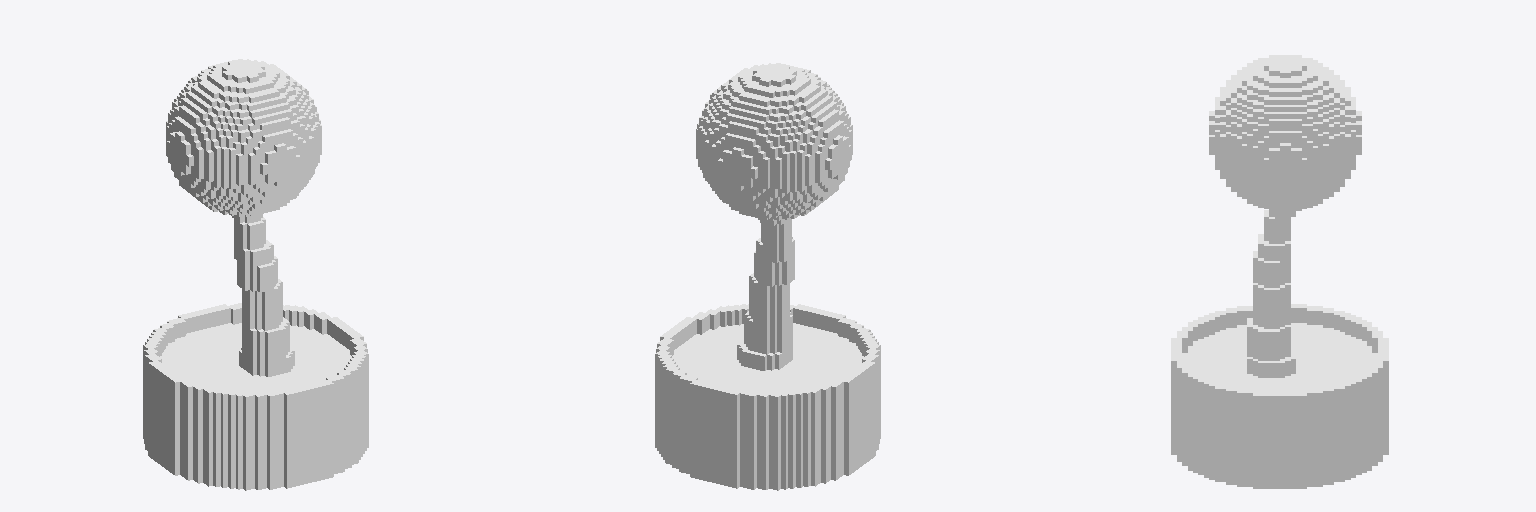
File: large-sphere-plant.obj
The picture shows the model from 3 angles: view 1: azimuth 30°, elevation 25°; view 2: azimuth 150°, elevation 25°; view 3: azimuth 270°, elevation 25°; orthographic projection.
Parts seen in each view (by area): view 1: object 1; view 2: object 1; view 3: object 1.
Boxes of the visible parts, box(x1,y1,x2,y2) form: object 1: box(143, 59, 368, 490); object 1: box(655, 63, 880, 490); object 1: box(1171, 55, 1388, 488).
Size of the model in its own units: 4 by 7.6 by 4.